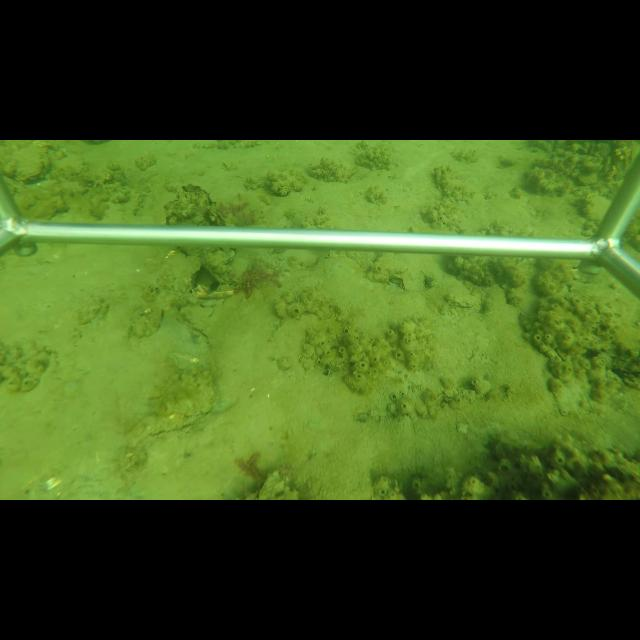Oyster-Closed: (125, 312, 219, 457), (127, 247, 202, 337), (437, 273, 477, 311)
